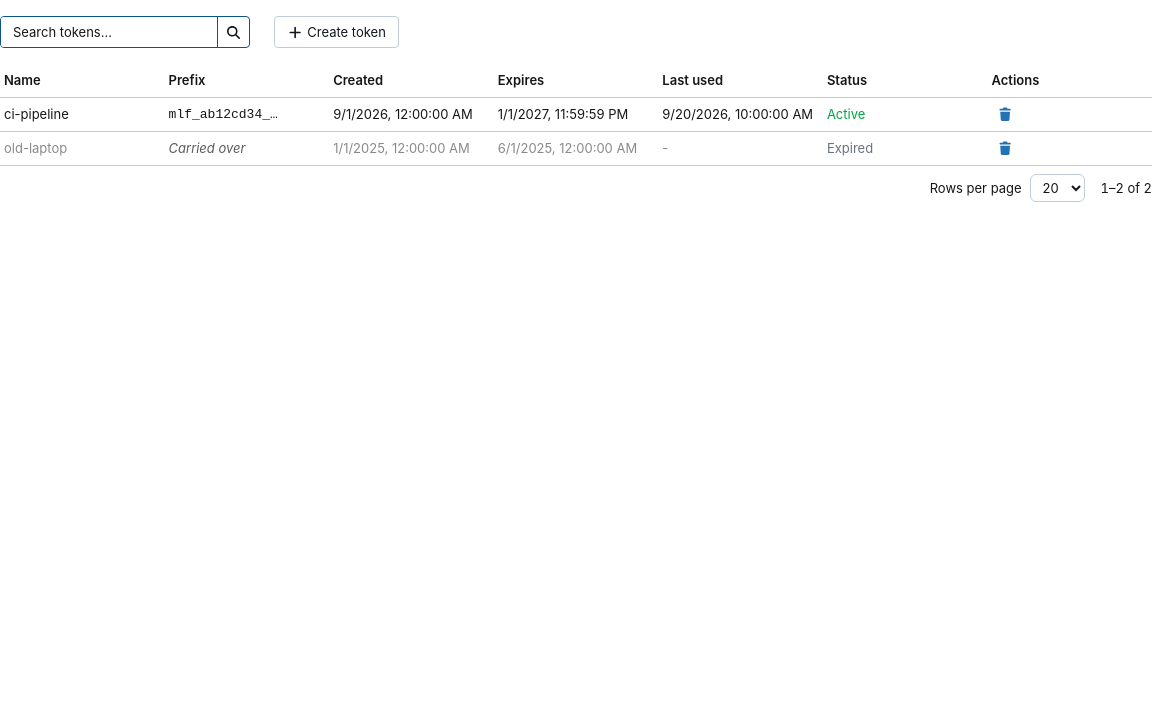
UserTokensPanel › opens the create dialog and refreshes after a token is issued
This screenshot has width=1152, height=720.
Click the button "Create token" at (336, 32), box top-left (274, 16), bottom-right (399, 48)
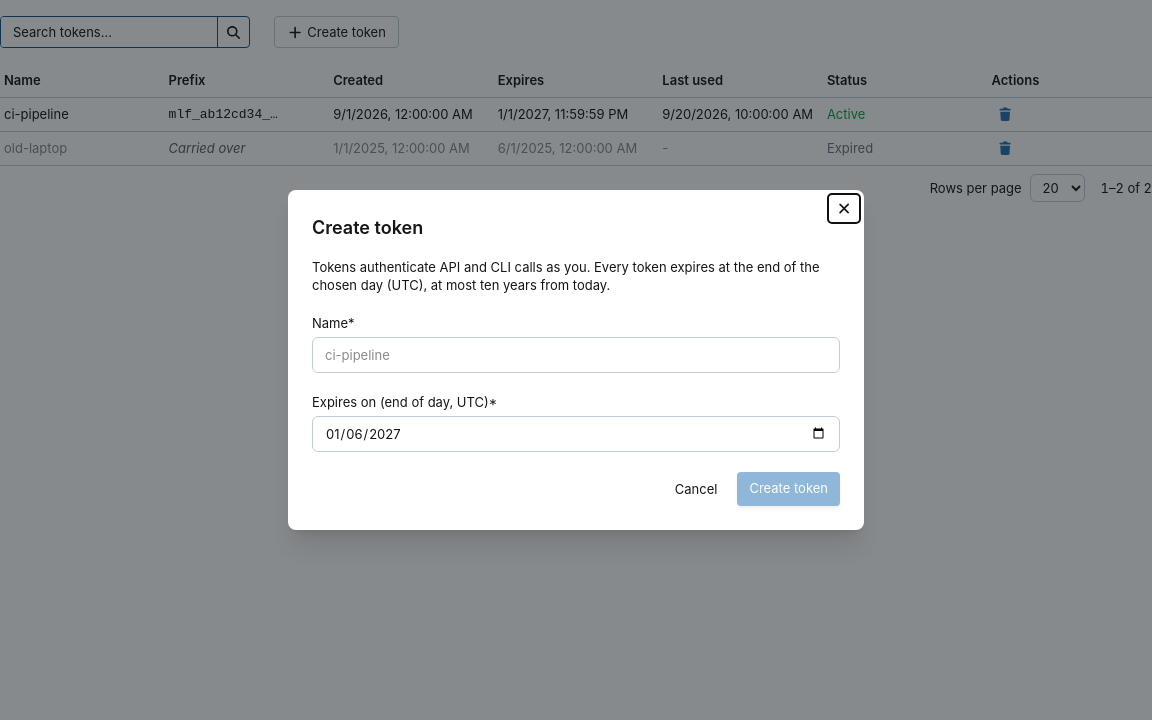
Type "new" into the field labelled "Name*" at (576, 355), box top-left (312, 337), bottom-right (840, 373)
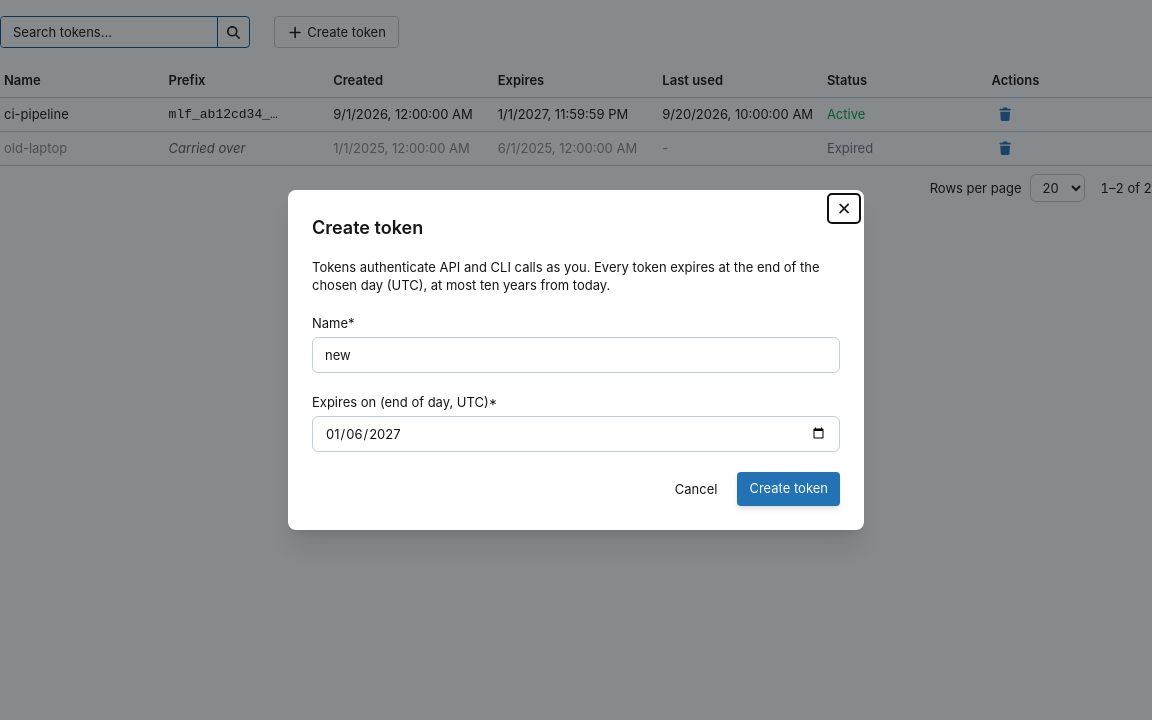
Click the button "Create token" at (789, 489), box top-left (737, 472), bottom-right (840, 506)
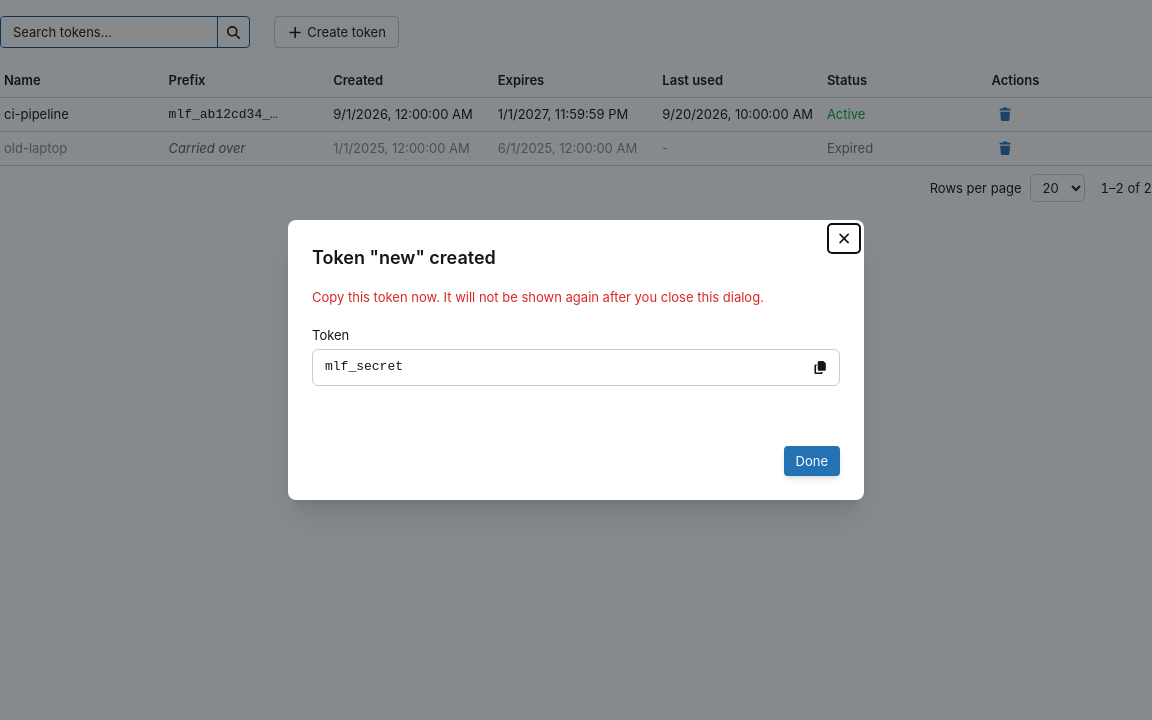
expect the field labelled "Token" holds "mlf_secret": met, box top-left (312, 349), bottom-right (840, 386)
